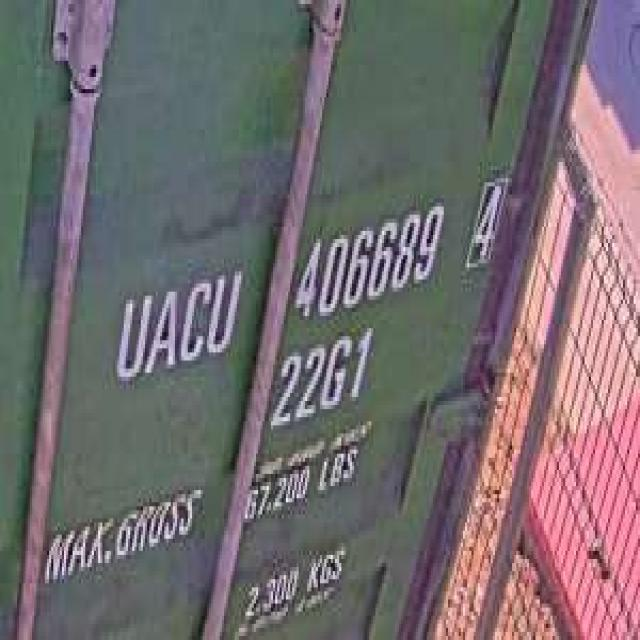dv: (458, 162, 506, 284)
owner: (109, 255, 243, 389)
serial: (290, 199, 446, 324)
size: (269, 324, 375, 429)
